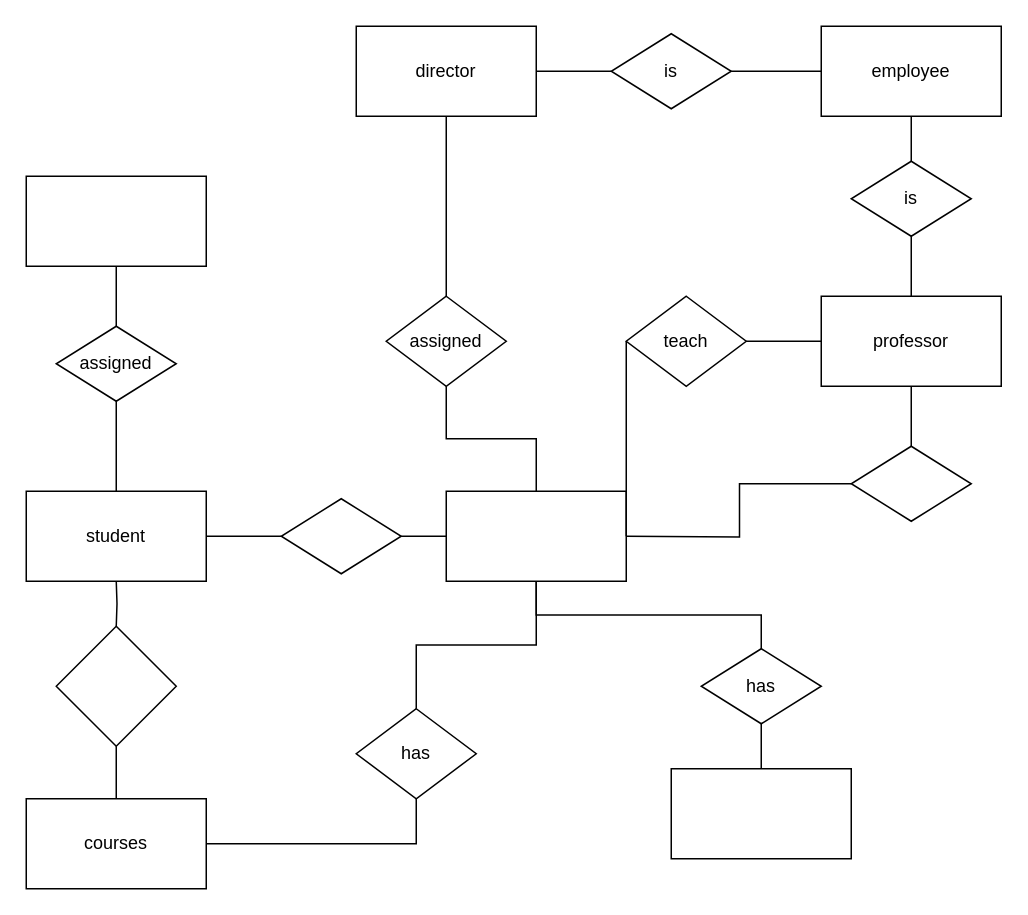
This 1028x915 diagram has some shape labels left out. Here are the shapes that lost their labels. From the top down, the centre of each, then its label:
the point at 115,220: group
the point at 910,483: manage
the point at 340,535: enrolls
the point at 535,535: faculty
the point at 115,685: course attempted date/ grade
the point at 760,813: university
